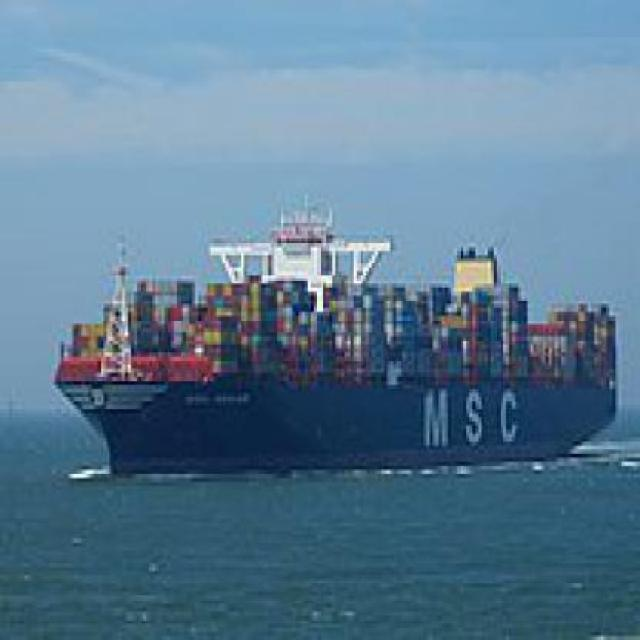container: (50, 183, 627, 487)
